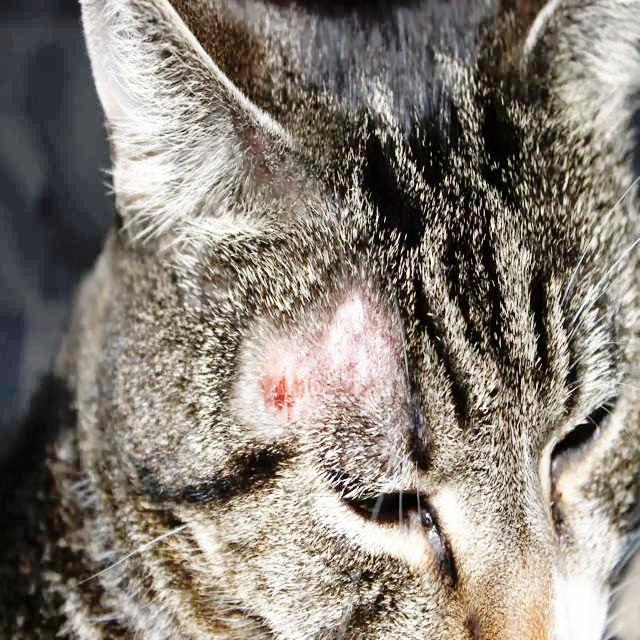ringworm: (237, 310, 388, 418)
